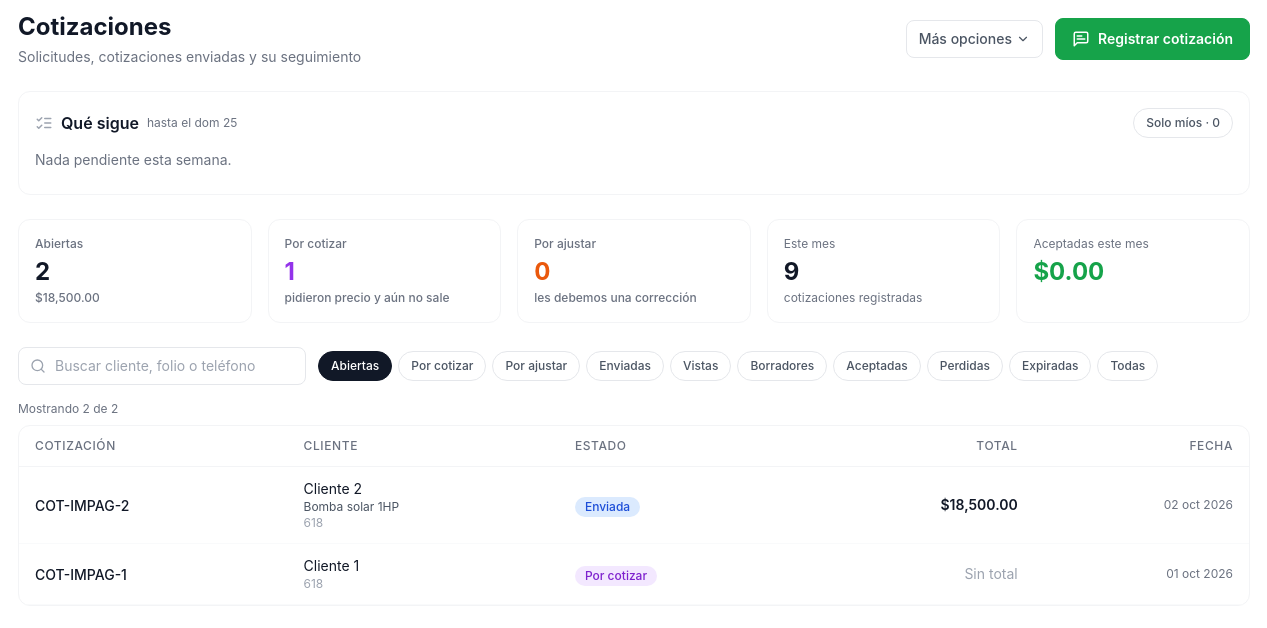
it: opens on «Abiertas», merging the open statuses, and debounces the search
Expected: the text "Mostrando 2 de 2" is shown, [18,401,118,416]
Type "zzz" into the search field named "Buscar cotizaciones" at coordinates (162, 366), box [18,347,306,385]
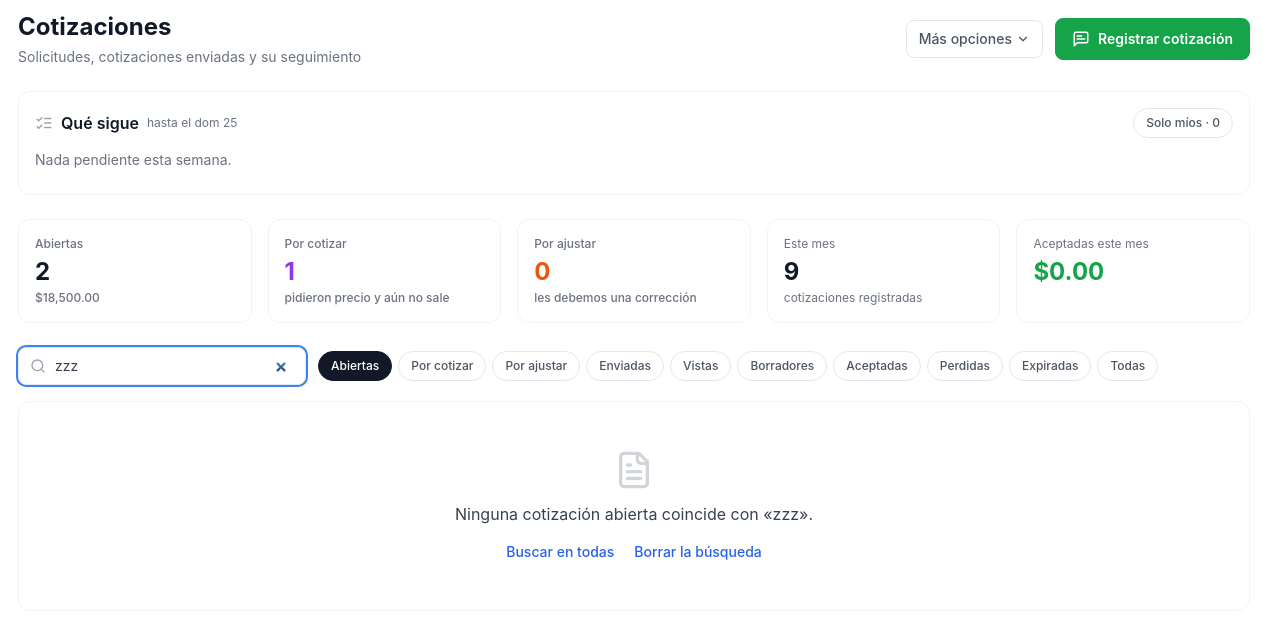
Expected: the text "Ninguna cotización abierta coincide con «zzz»." is shown, [455,504,813,524]
Expected: the button "Buscar en todas" is shown, [506,542,614,562]
